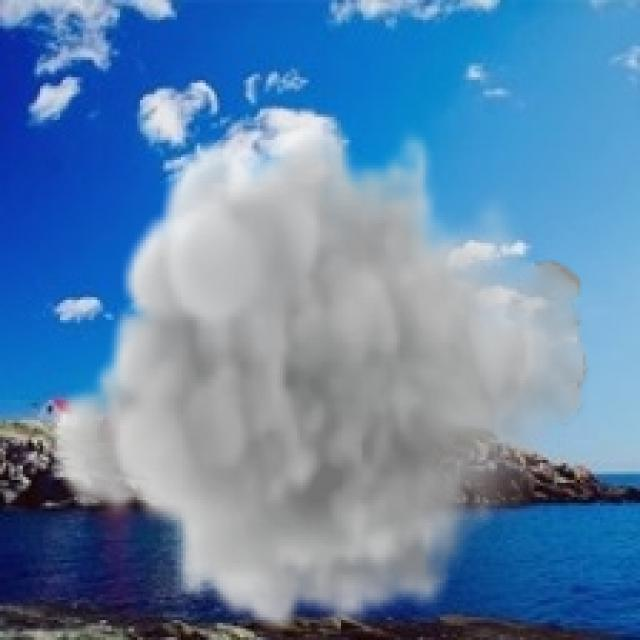smoke: (43, 111, 591, 634)
